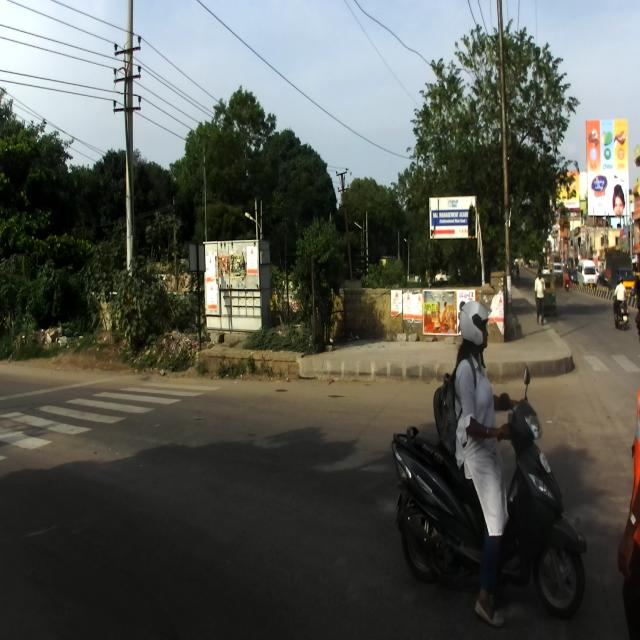electric pole ahead at: (102, 0, 158, 287)
motorcycle ahead at: (396, 386, 587, 627)
zebra crossing ahead at: (0, 378, 205, 469)
